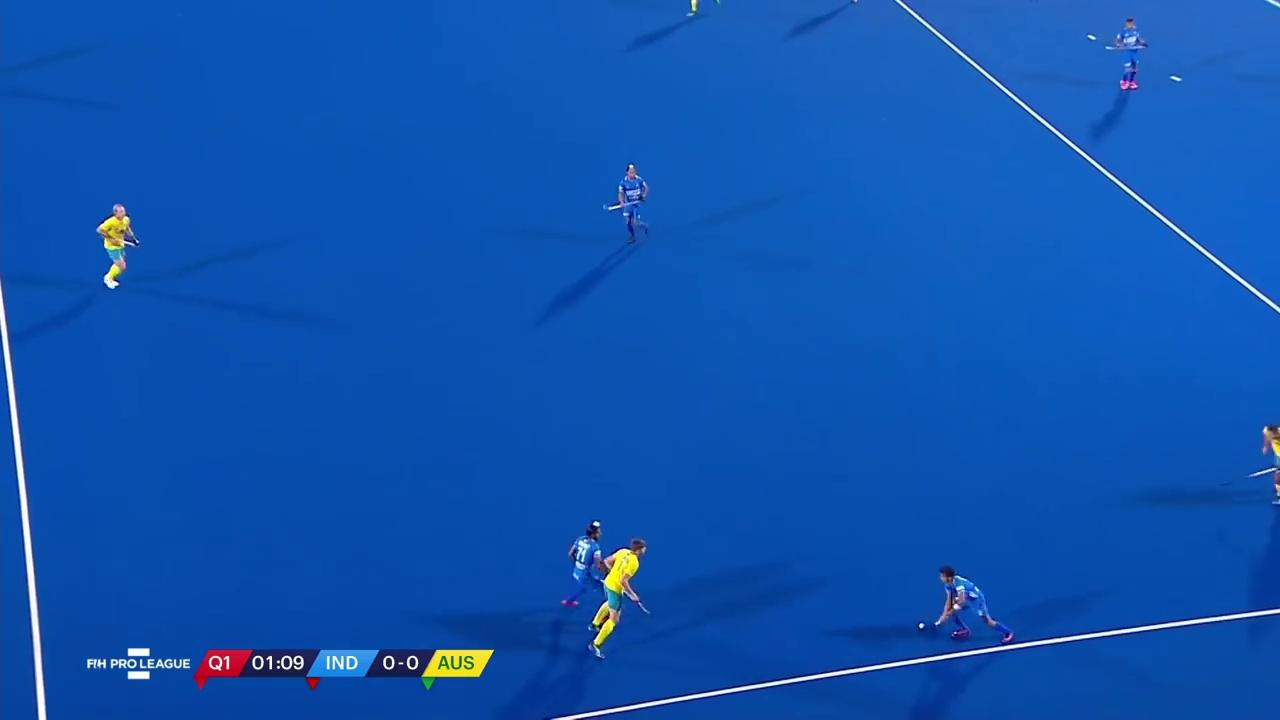ball: (915, 617, 928, 631)
